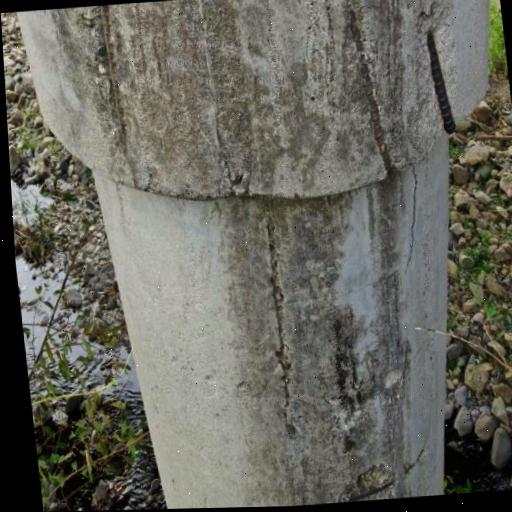exposed_rebar: (349, 8, 392, 174), (101, 6, 127, 150), (427, 33, 455, 133)
